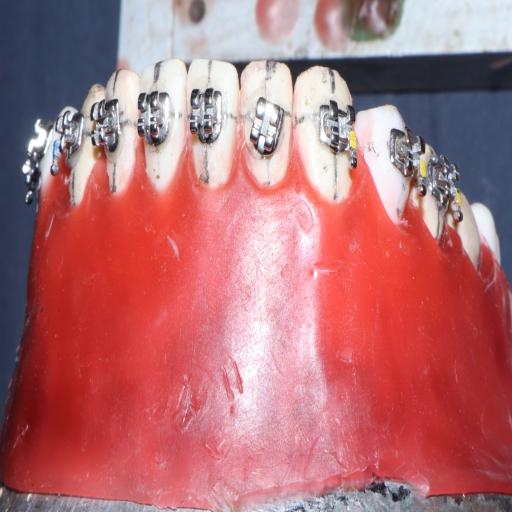correct_brace: (185, 83, 227, 149), (135, 88, 176, 146)
incorrect_brace: (239, 52, 295, 195), (239, 92, 289, 159)
